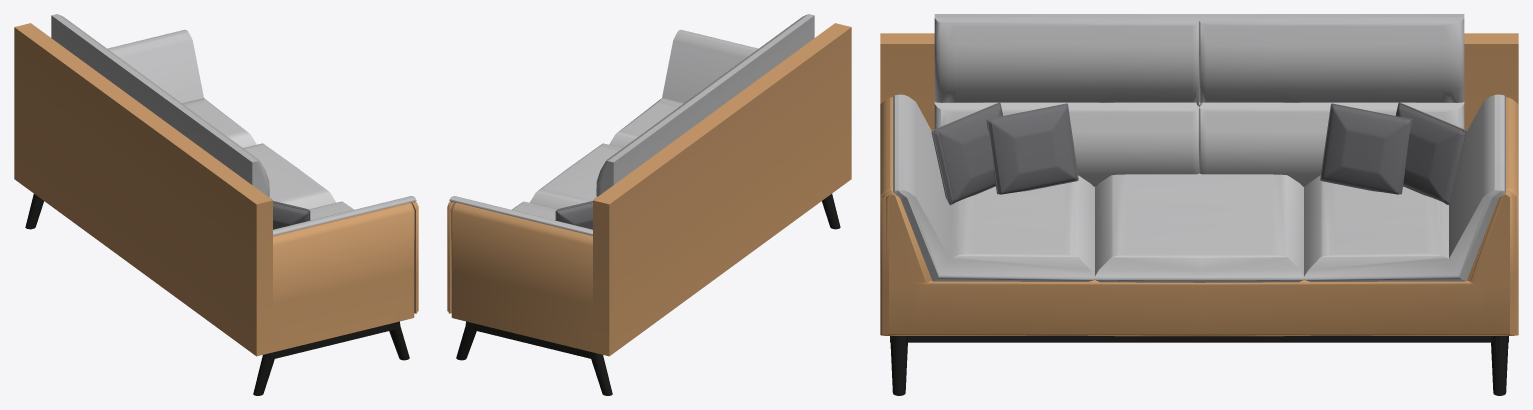
File: modern sofa.fbx
3 renders of one model, left to right at view 1: azimuth 30°, elevation 25°; view 2: azimuth 150°, elevation 25°; view 3: azimuth 270°, elevation 25°, orthographic. The views are drawn at different scales.
Visible parts, largest first — view 1: modern sofa; view 2: modern sofa; view 3: modern sofa.
Boxes of the visible parts, bbox=[...] form: modern sofa: bbox=[14, 14, 418, 395]; modern sofa: bbox=[447, 14, 851, 395]; modern sofa: bbox=[880, 14, 1518, 395].
Bounding box in the file's own units: 71.77 × 90.18 × 180.
3 materials, 3 textured.
